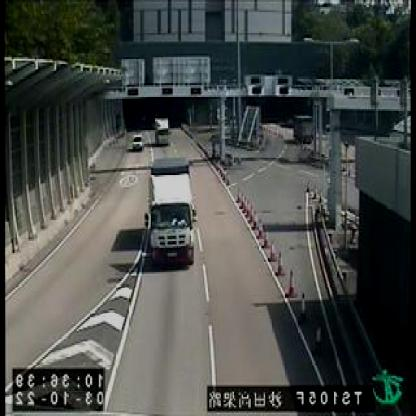Car: (133, 133, 144, 151)
Truck: (148, 158, 194, 265), (154, 114, 172, 144)
